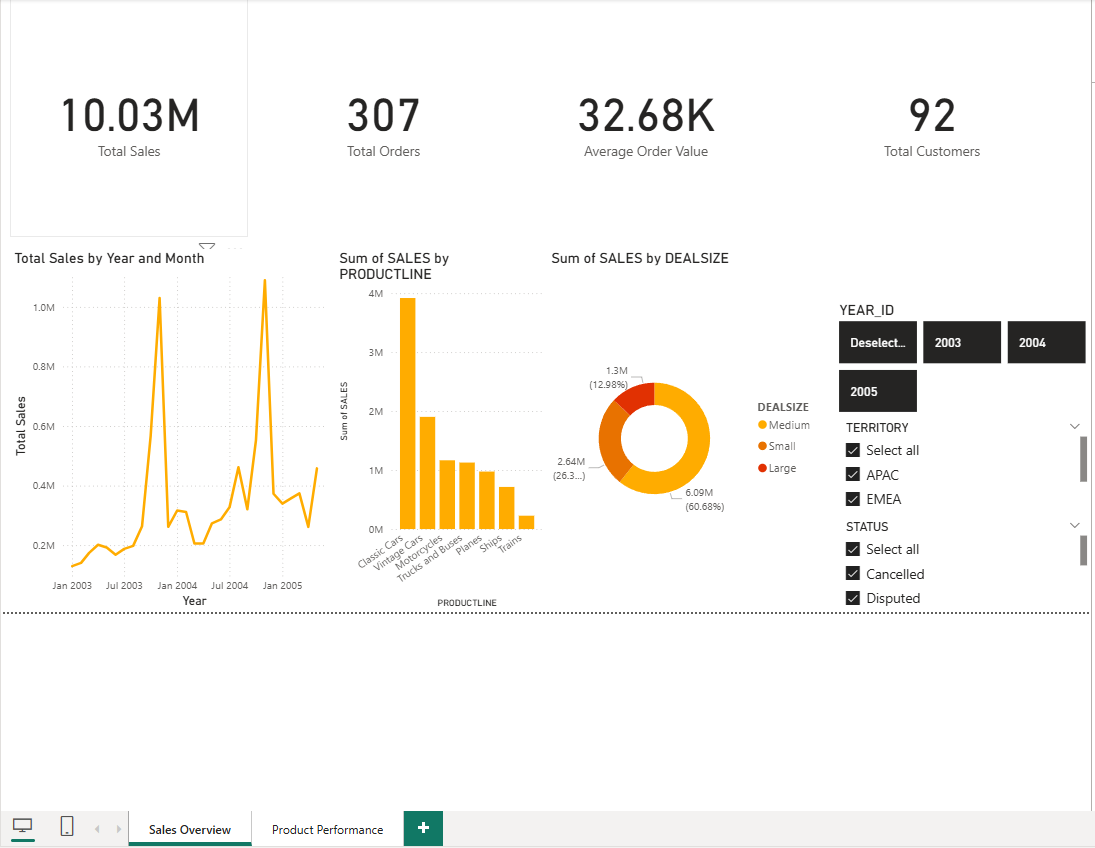

Layout of this report page (visuals, bound fields, positions):
{"tool":"powerbi","page":{"name":"Sales Overview","canvas":[1280,720],"ordinal":0},"visuals":[{"type":"card","fields":{"Values":["orders.Total Sales"]},"box":[10.6,0,279.5,279.5],"z":0},{"type":"card","fields":{"Values":["orders.Total Orders"]},"box":[290.1,0,318.2,279.5],"z":1000},{"type":"card","fields":{"Values":["select","orders.Average Order Value"]},"box":[608.3,0,298.3,279.5],"z":2000},{"type":"card","fields":{"Values":["orders.Total Customers"]},"box":[906.6,0,373.4,279.5],"z":3000},{"type":"lineChart","fields":{"Y":["orders.Total Sales"],"Category":["orders.ORDERDATE.Variation.Date Hierarchy.Year","orders.ORDERDATE.Variation.Date Hierarchy.Month","orders.ORDERDATE.Variation.Date Hierarchy.Day"]},"box":[10.9,293.6,389.5,425.9],"z":4000},{"type":"clusteredColumnChart","fields":{"Category":["orders.PRODUCTLINE"],"Y":["Sum(orders.SALES)"]},"box":[391.9,293.6,248.7,425.9],"z":5000},{"type":"donutChart","fields":{"Category":["orders.DEALSIZE"],"Y":["Sum(orders.SALES)"]},"box":[640.6,293.6,331.2,425.9],"z":6000},{"type":"advancedSlicerVisual","fields":{"Values":["orders.YEAR_ID"]},"box":[979.4,354.6,300.6,136.2],"z":7000},{"type":"slicer","fields":{"Values":["orders.TERRITORY"]},"box":[979.4,490.9,300.6,116.3],"z":8000},{"type":"slicer","fields":{"Values":["orders.STATUS"]},"box":[979.4,607.1,300.6,112.7],"z":9000}]}

Visuals, with their boxes on the page's 1280x720 design canvas (x1, y1, x2, y2). These are canvas units, not pixel positions in the 1095x848 screenshot, which may show the page scaled, cropped or inside an application window:
card - orders.Total Sales: detection(11, 0, 290, 280)
card - orders.Total Orders: detection(290, 0, 608, 280)
card - select x orders.Average Order Value: detection(608, 0, 907, 280)
card - orders.Total Customers: detection(907, 0, 1280, 280)
lineChart - orders.Total Sales x orders.ORDERDATE.Variation.Date Hierarchy.Year: detection(11, 294, 400, 720)
clusteredColumnChart - orders.PRODUCTLINE x Sum(orders.SALES): detection(392, 294, 641, 720)
donutChart - orders.DEALSIZE x Sum(orders.SALES): detection(641, 294, 972, 720)
advancedSlicerVisual - orders.YEAR_ID: detection(979, 355, 1280, 491)
slicer - orders.TERRITORY: detection(979, 491, 1280, 607)
slicer - orders.STATUS: detection(979, 607, 1280, 720)
